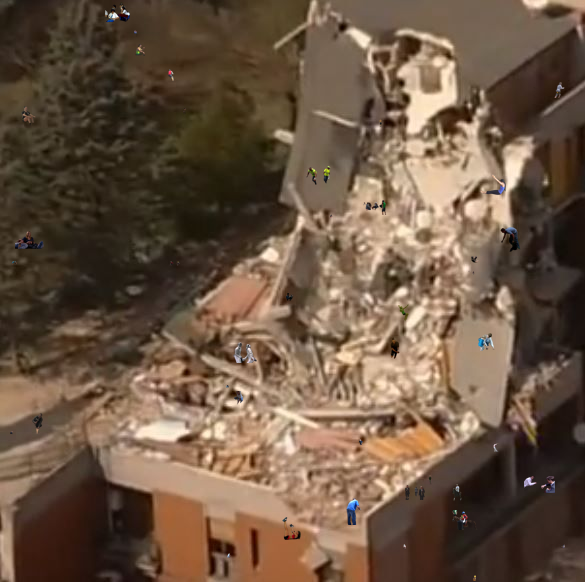Human: (500, 227, 522, 252), (480, 174, 506, 195), (105, 2, 132, 22), (532, 82, 565, 98), (524, 476, 555, 493), (306, 164, 331, 185), (15, 231, 44, 249), (452, 510, 478, 530), (282, 517, 303, 541), (233, 342, 257, 363), (363, 197, 391, 215), (346, 498, 364, 525), (478, 333, 495, 351), (21, 106, 36, 126), (405, 485, 425, 500), (32, 413, 43, 434), (467, 256, 479, 275), (390, 337, 400, 359), (398, 304, 409, 321), (452, 484, 462, 501), (234, 391, 243, 409), (135, 44, 145, 56), (168, 69, 174, 82), (286, 293, 295, 301), (226, 385, 233, 393), (169, 261, 180, 266), (493, 443, 499, 452), (132, 29, 138, 37), (428, 475, 432, 486), (379, 119, 382, 127), (359, 439, 363, 445), (183, 108, 186, 115), (10, 431, 14, 436), (12, 261, 17, 265), (329, 214, 333, 219), (227, 553, 231, 558), (560, 544, 565, 548), (473, 575, 476, 581), (403, 544, 406, 550)
